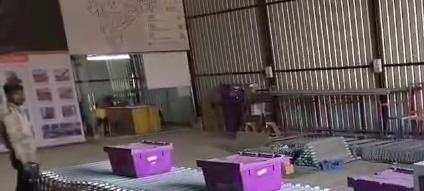box: (197, 153, 287, 190), (104, 141, 172, 177), (348, 170, 413, 190)
